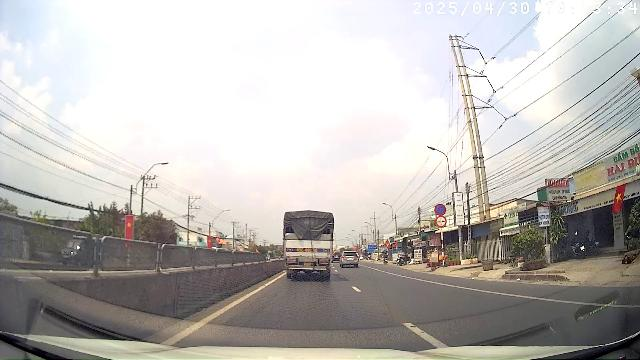125-cam-vuot: (436, 216, 446, 226)
130-cam-dung-va-do-xe: (436, 205, 446, 216)
